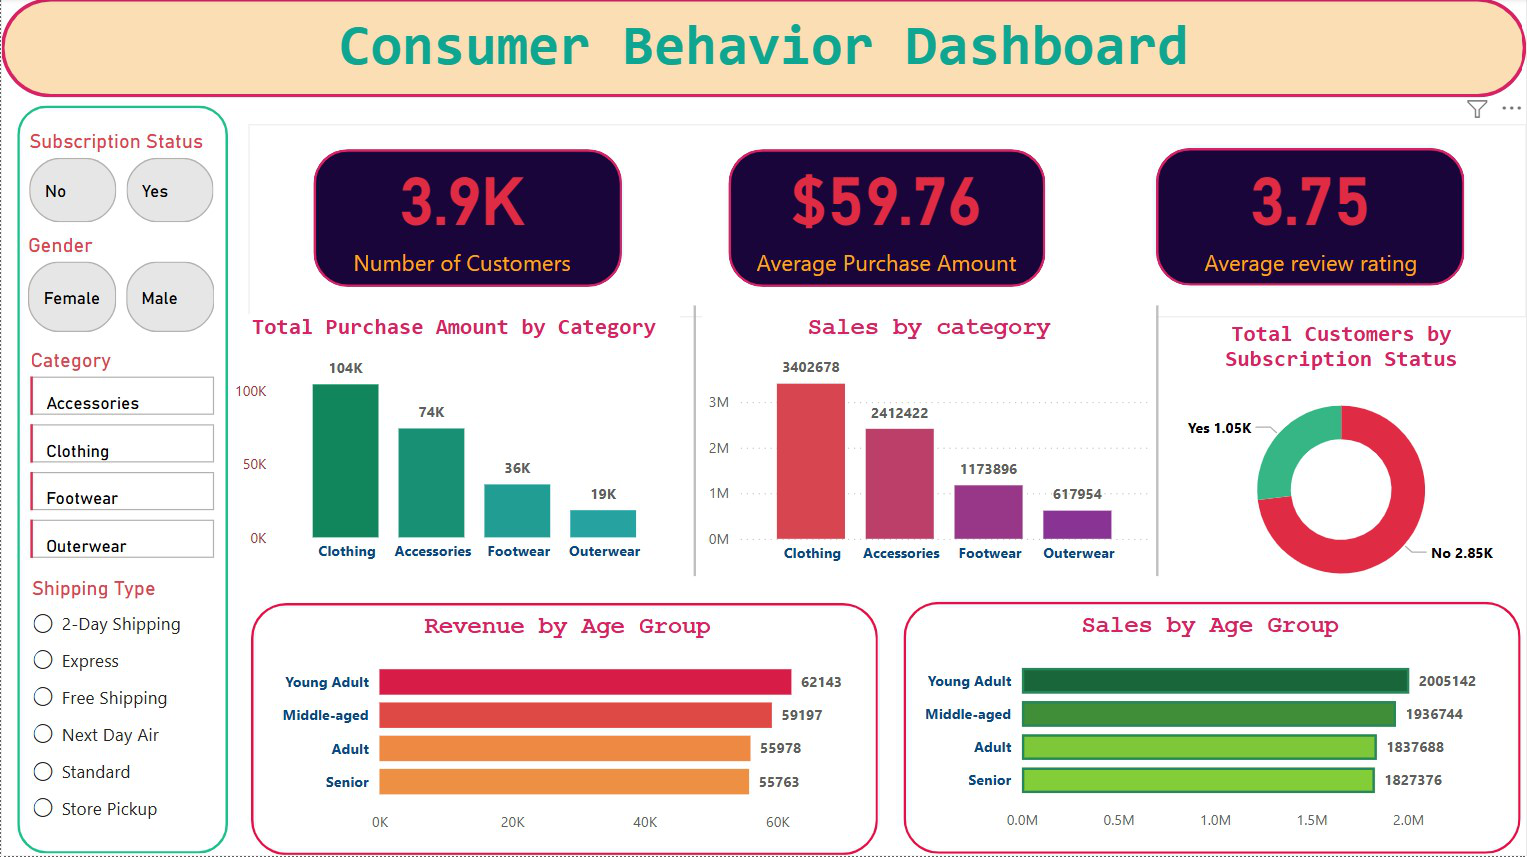

The dashboard page shown, as its layout file describes it:
{"tool":"powerbi","page":{"name":"Page 1","canvas":[1280,720],"ordinal":0},"visuals":[{"type":"group","id":"g1","title":"Group 1","box":[0,-40.3,1280,761],"z":0,"group":"g2"},{"type":"shape","box":[261.6,126.7,258.8,115.5],"z":1000,"group":"g1"},{"type":"shape","box":[569.2,257,25.2,226.9],"z":1000,"group":"g2"},{"type":"shape","box":[609.7,126.4,265.7,115.5],"z":2000,"group":"g1"},{"type":"shape","box":[957,257,25.2,226.9],"z":2000,"group":"g2"},{"type":"shape","box":[968.3,125.3,258.8,115.5],"z":3000,"group":"g1"},{"type":"shape","box":[14,89.9,176.7,627.4],"z":4000,"group":"g1"},{"type":"cardVisual","fields":{"Data":["public customer.Number of Customers","public customer.Average Purchase Amount","public customer.Average review rating"]},"box":[207.3,105,1072.7,162.8],"z":5000,"group":"g1"},{"type":"advancedSlicerVisual","title":"Subscription Status","fields":{"Values":["public customer.subscription_status"]},"box":[19.2,109.1,165.6,83.5],"z":6000,"group":"g1"},{"type":"shape","box":[0,0,1280,83.5],"z":7000,"group":"g1"},{"type":"shape","box":[756.5,506,517.6,211.5],"z":8000,"group":"g1"},{"type":"shape","box":[210.1,506.5,525.9,211.5],"z":9000,"group":"g1"},{"type":"advancedSlicerVisual","title":"Gender","fields":{"Values":["public customer.gender"]},"box":[18.1,196.2,167,89],"z":10000,"group":"g1"},{"type":"textbox","box":[0,5.3,1280,78.2],"z":11000,"group":"g1"},{"type":"advancedSlicerVisual","title":"Category","fields":{"Values":["public customer.category"]},"box":[20.4,292.7,164.5,183.7],"z":12000,"group":"g1"},{"type":"donutChart","title":"Total Customers by Subscription Status","fields":{"Y":["CountNonNull(public customer.customer_id)"],"Category":["public customer.subscription_status"]},"box":[969,269.9,310.9,240.8],"z":13000,"group":"g1"},{"type":"group","id":"g2","title":"Group 2","box":[0,-40.3,1280,761],"z":13006},{"type":"clusteredColumnChart","title":"Total Purchase Amount by Category","fields":{"Y":["Sum(public customer.purchase_amount)"],"Category":["public customer.category"]},"box":[190.9,265.1,378.2,217.3],"z":14000,"group":"g1"},{"type":"columnChart","title":"Sales by category","fields":{"Category":["public customer.category"],"Y":["Sum(public customer.customer_id)"]},"box":[588.4,265.1,380.6,218.5],"z":15000,"group":"g1"},{"type":"listSlicer","title":"Shipping Type","fields":{"Values":["public customer.shipping_type"]},"box":[21.1,483.7,162.8,218.4],"z":16000,"group":"g1"},{"type":"clusteredBarChart","title":"Revenue by Age Group","fields":{"Category":["public customer.age_group"],"Y":["Sum(public customer.purchase_amount)"]},"box":[229.6,514.8,491.1,193.4],"z":17000,"group":"g1"},{"type":"clusteredBarChart","title":"Sales by Age Group","fields":{"Category":["public customer.age_group"],"Y":["Sum(public customer.customer_id)"]},"box":[768.6,514.7,491.1,193.3],"z":18000,"group":"g1"}]}

Visuals, with their boxes in screenshot pixels (x1, y1, x2, y2), scaled from the page's 1280x720 canvas onto the 1527x857 screenshot:
"Group 1" group: x1=0 y1=0 x2=1526 y2=856
shape: x1=312 y1=151 x2=621 y2=288
shape: x1=679 y1=306 x2=709 y2=576
shape: x1=727 y1=150 x2=1044 y2=288
shape: x1=1142 y1=306 x2=1172 y2=576
shape: x1=1155 y1=149 x2=1464 y2=287
shape: x1=17 y1=107 x2=227 y2=854
cardVisual - public customer.Number of Customers x public customer.Average Purchase Amount: x1=247 y1=125 x2=1526 y2=319
"Subscription Status" advancedSlicerVisual: x1=23 y1=130 x2=220 y2=229
shape: x1=0 y1=0 x2=1526 y2=99
shape: x1=902 y1=602 x2=1520 y2=854
shape: x1=251 y1=603 x2=878 y2=855
"Gender" advancedSlicerVisual: x1=22 y1=234 x2=221 y2=339
textbox: x1=0 y1=6 x2=1526 y2=99
"Category" advancedSlicerVisual: x1=24 y1=348 x2=221 y2=567
"Total Customers by Subscription Status" donutChart: x1=1156 y1=321 x2=1526 y2=608
"Group 2" group: x1=0 y1=0 x2=1526 y2=856
"Total Purchase Amount by Category" clusteredColumnChart: x1=228 y1=316 x2=679 y2=574
"Sales by category" columnChart: x1=702 y1=316 x2=1156 y2=576
"Shipping Type" listSlicer: x1=25 y1=576 x2=219 y2=836
"Revenue by Age Group" clusteredBarChart: x1=274 y1=613 x2=860 y2=843
"Sales by Age Group" clusteredBarChart: x1=917 y1=613 x2=1503 y2=843
